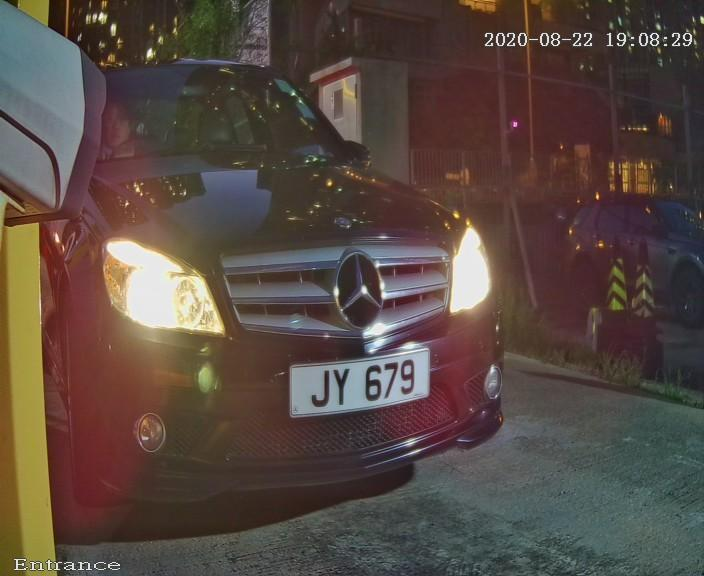Car: (1, 11, 560, 553)
License Plate: (283, 337, 440, 420)
